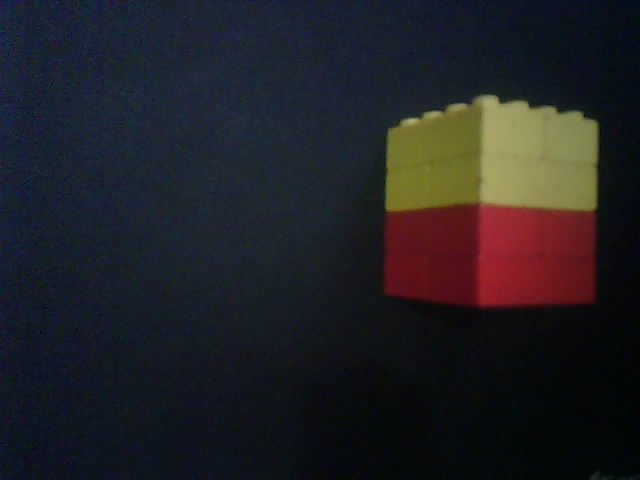lego: (380, 92, 601, 309)
